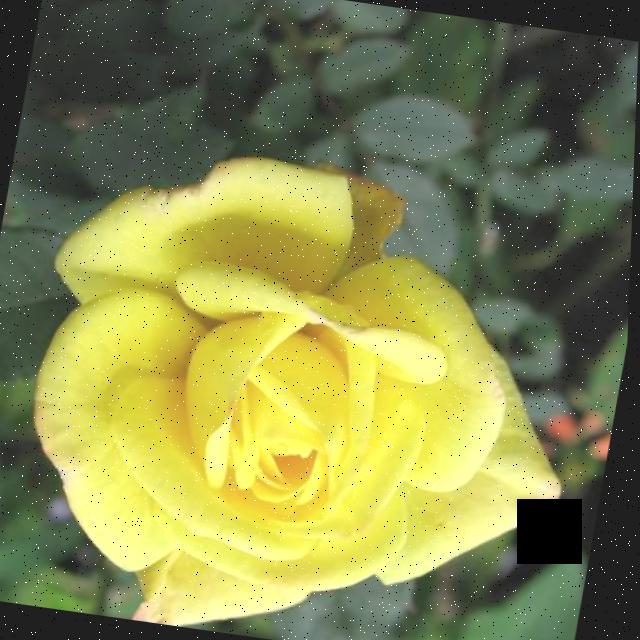rose: (0, 107, 627, 640)
